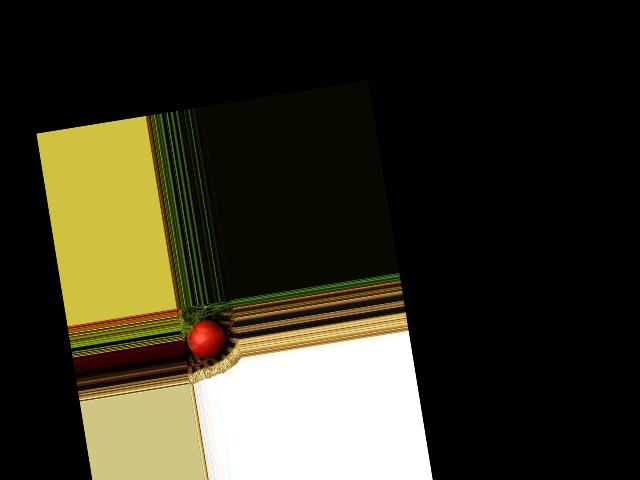tomato: (184, 316, 228, 360)
